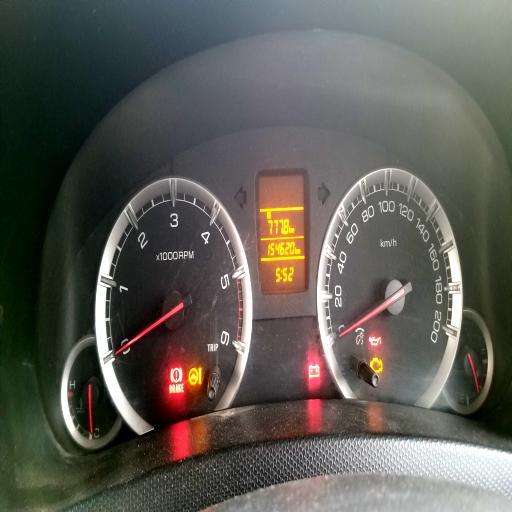brake_system_fault: (169, 365, 183, 384)
check_engine: (370, 358, 382, 372)
oil: (368, 334, 382, 347)
tachometer: (95, 176, 253, 436)
vehicle_charging: (308, 362, 320, 380)
